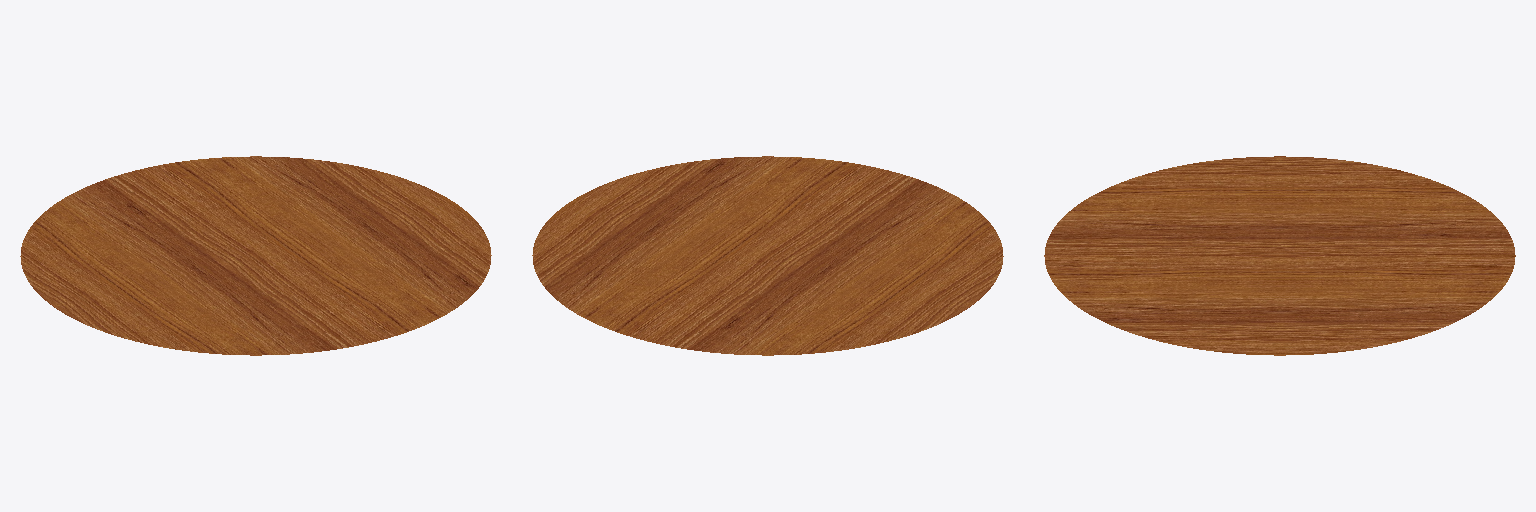
3 renders of one model, left to right at view 1: azimuth 30°, elevation 25°; view 2: azimuth 150°, elevation 25°; view 3: azimuth 270°, elevation 25°, orthographic.
Visible parts, largest first — view 1: 圆环; view 2: 圆环; view 3: 圆环.
Boxes of the visible parts, x1=… form: 圆环: x1=20, y1=156, x2=491, y2=355; 圆环: x1=532, y1=156, x2=1003, y2=355; 圆环: x1=1044, y1=156, x2=1515, y2=355.
Bounding box in the file's own units: 2 × 0 × 2.
1 materials, 1 textured.